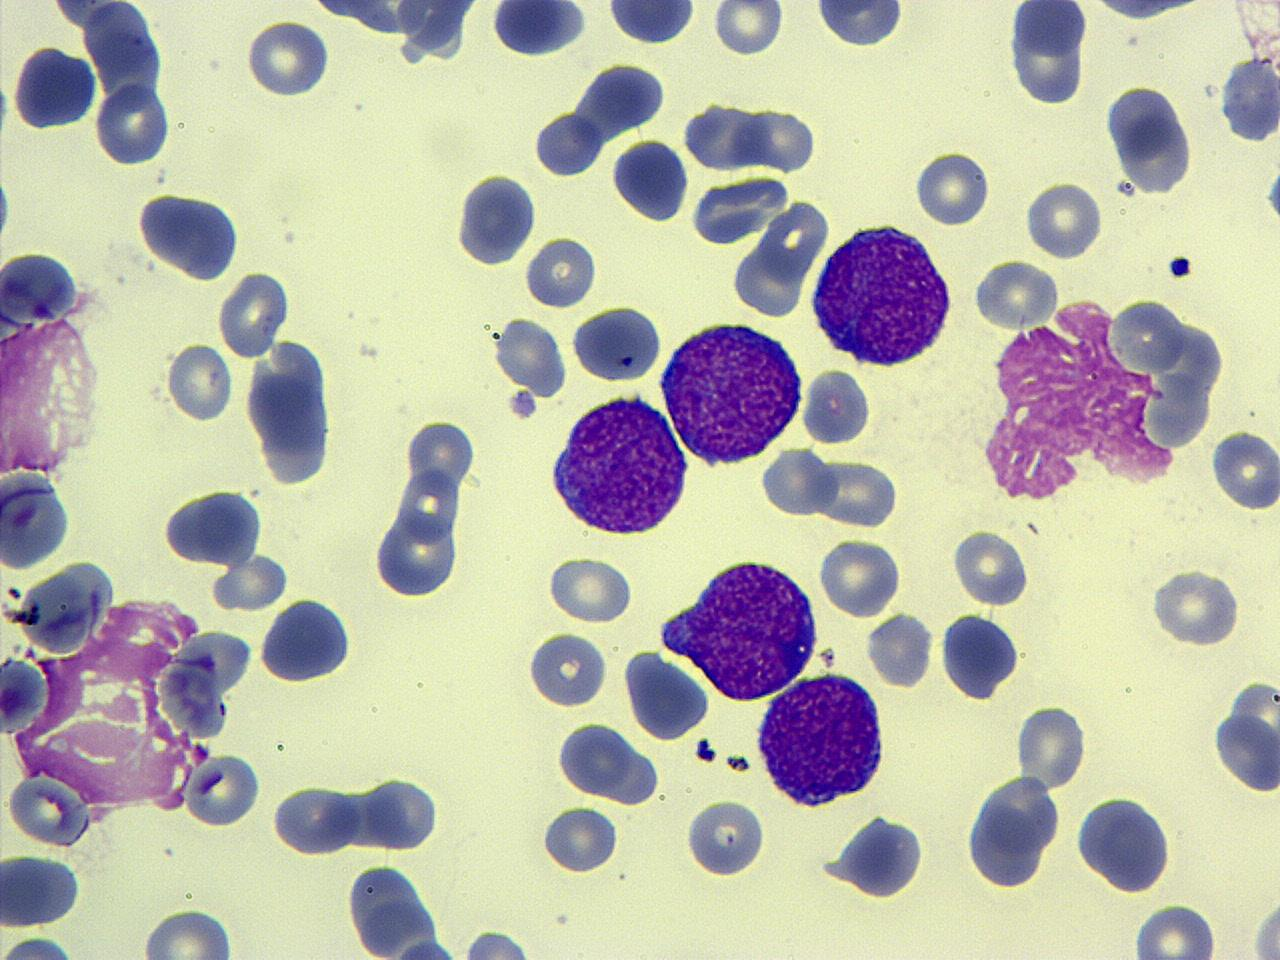Platelets: (452, 168, 539, 268), (800, 366, 876, 446), (488, 0, 586, 58), (0, 651, 42, 736), (0, 74, 15, 147), (0, 174, 15, 243), (1262, 170, 1280, 226), (1166, 254, 1192, 280), (1113, 178, 1135, 198)
RBC: (158, 488, 267, 572), (624, 644, 712, 743), (1006, 2, 1089, 106), (1214, 672, 1280, 797), (372, 508, 462, 599), (1148, 564, 1244, 647), (937, 609, 1021, 702), (571, 301, 664, 384), (3, 771, 96, 850), (245, 16, 332, 100), (611, 135, 690, 227), (270, 779, 362, 857), (817, 534, 901, 619), (682, 795, 766, 880), (554, 719, 640, 800), (950, 526, 1032, 610), (217, 269, 292, 360), (95, 80, 171, 168), (545, 552, 635, 626), (526, 629, 608, 710), (387, 462, 464, 548), (812, 455, 900, 530), (1023, 178, 1103, 260), (182, 749, 264, 829), (2, 850, 85, 929), (495, 315, 570, 402), (1208, 424, 1280, 514), (1016, 701, 1088, 791), (972, 258, 1060, 330), (912, 147, 990, 228), (799, 364, 875, 446), (731, 241, 808, 319), (363, 773, 439, 851), (540, 802, 622, 874), (166, 341, 235, 425), (522, 233, 598, 309), (762, 446, 840, 520), (406, 418, 477, 497), (530, 108, 604, 180), (866, 610, 934, 688), (810, 0, 907, 54), (140, 904, 237, 958), (1131, 901, 1219, 959), (744, 106, 816, 175), (602, 1, 700, 46), (711, 0, 785, 58), (1230, 0, 1280, 62), (0, 932, 84, 960), (1250, 892, 1280, 959)
WBC: (392, 0, 962, 347), (0, 0, 546, 222), (2, 574, 260, 822), (964, 284, 1236, 512), (0, 0, 175, 164), (0, 250, 114, 480), (657, 552, 822, 702), (654, 316, 808, 467), (807, 219, 959, 370), (546, 390, 692, 540), (752, 668, 889, 810), (242, 334, 342, 490), (288, 0, 500, 68), (961, 772, 1064, 894), (341, 858, 462, 958), (1102, 80, 1198, 196), (1073, 790, 1175, 896), (133, 187, 246, 282), (816, 808, 930, 902), (158, 484, 270, 570), (621, 644, 712, 744), (257, 596, 357, 686), (1006, 0, 1090, 107), (1210, 677, 1278, 801), (938, 605, 1021, 705), (10, 40, 97, 134), (0, 467, 74, 573), (572, 302, 664, 386), (1218, 36, 1280, 155), (610, 134, 690, 225), (555, 719, 643, 801), (0, 850, 83, 930), (540, 804, 624, 875), (530, 102, 602, 182), (488, 2, 586, 59), (812, 2, 908, 53), (604, 0, 700, 47)
